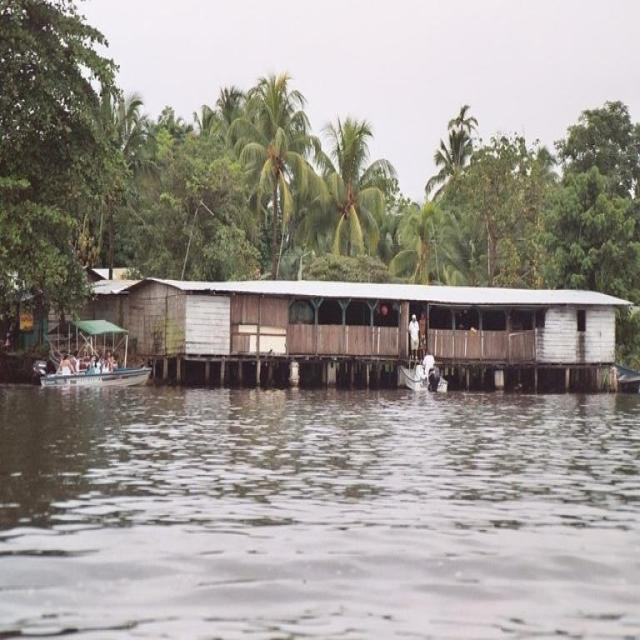boat: (36, 364, 152, 395)
